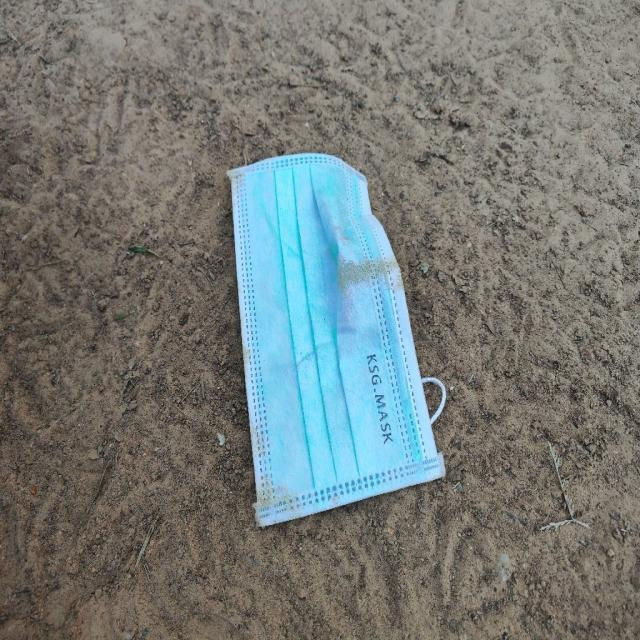face mask: (226, 152, 447, 528)
